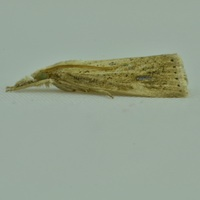insect: (6, 54, 187, 97)
